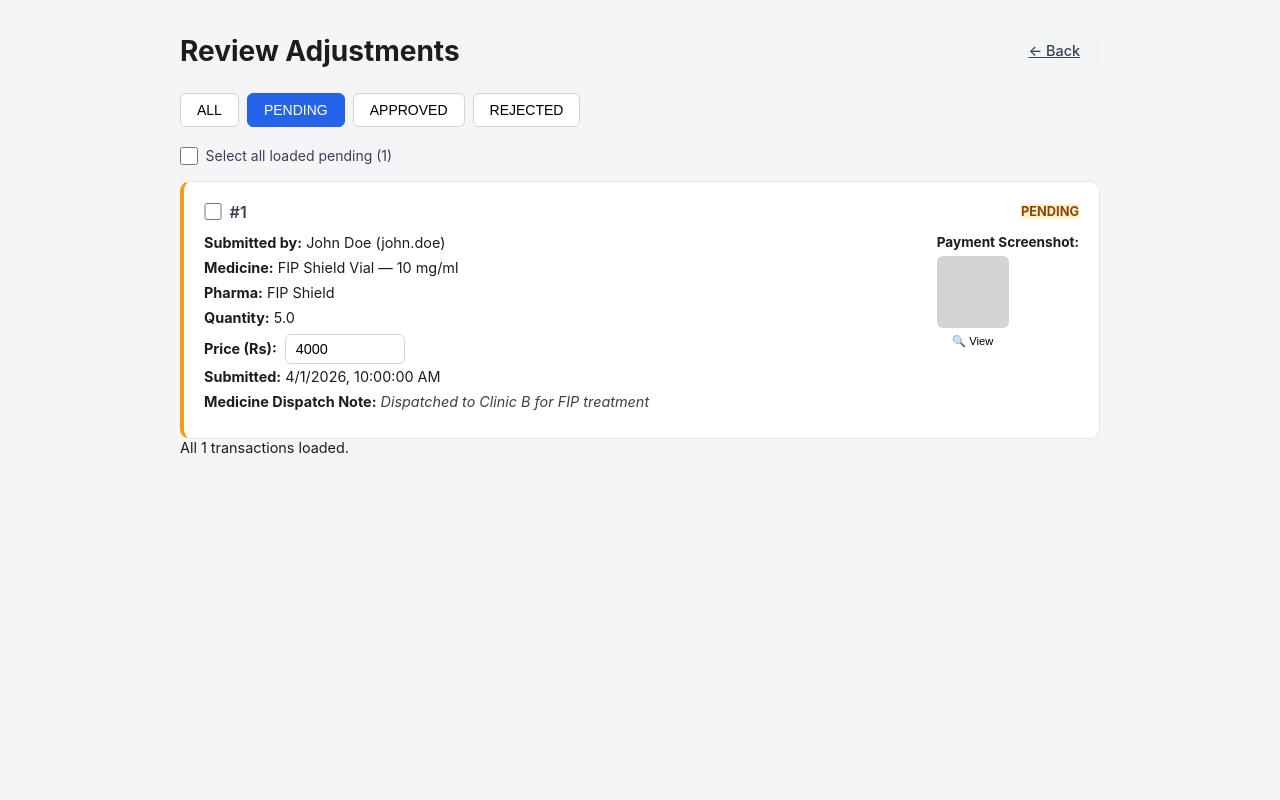
Test: ApproveTransactions — with screenshot › clicking thumbnail opens the lightbox dialog
Click the button with aria-label "view payment screenshot 1 of 1 for transaction #1": point(973, 302) left=937, top=256, right=1009, bottom=348
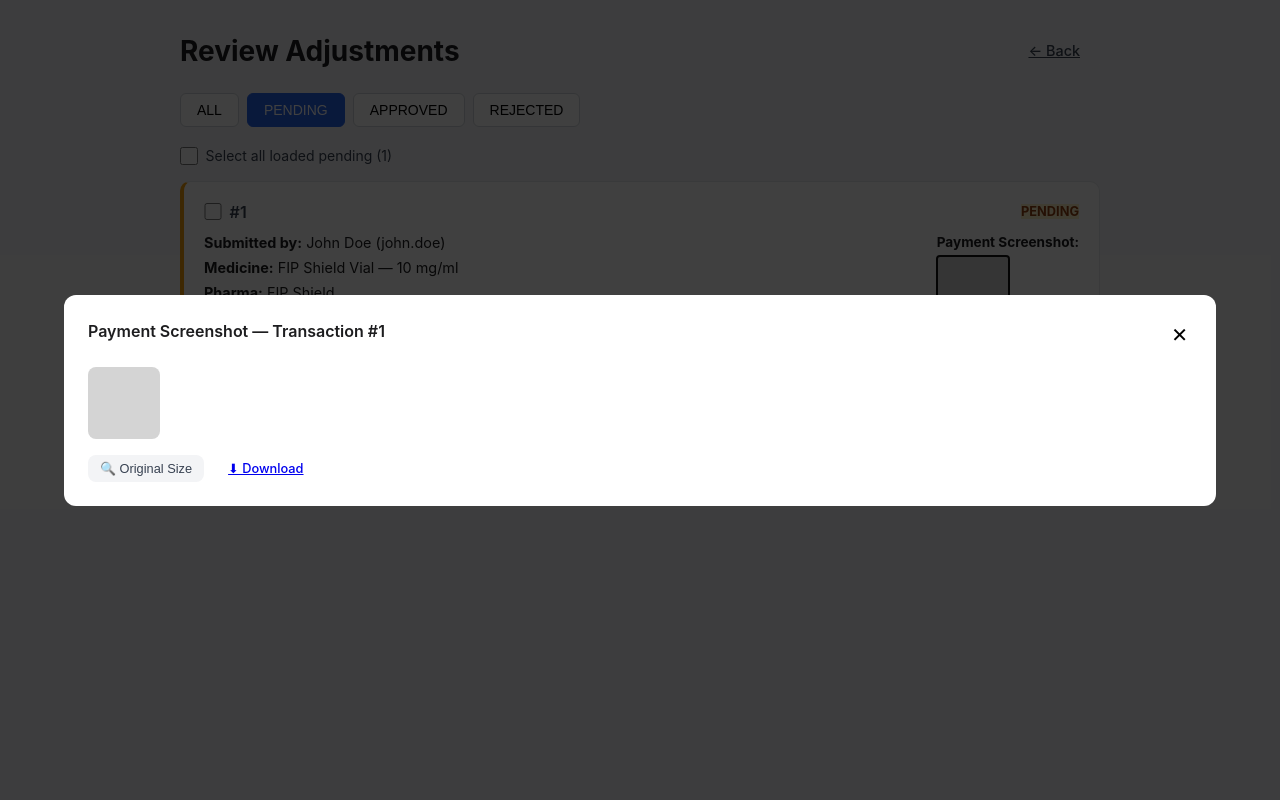
Result: the dialog is shown
